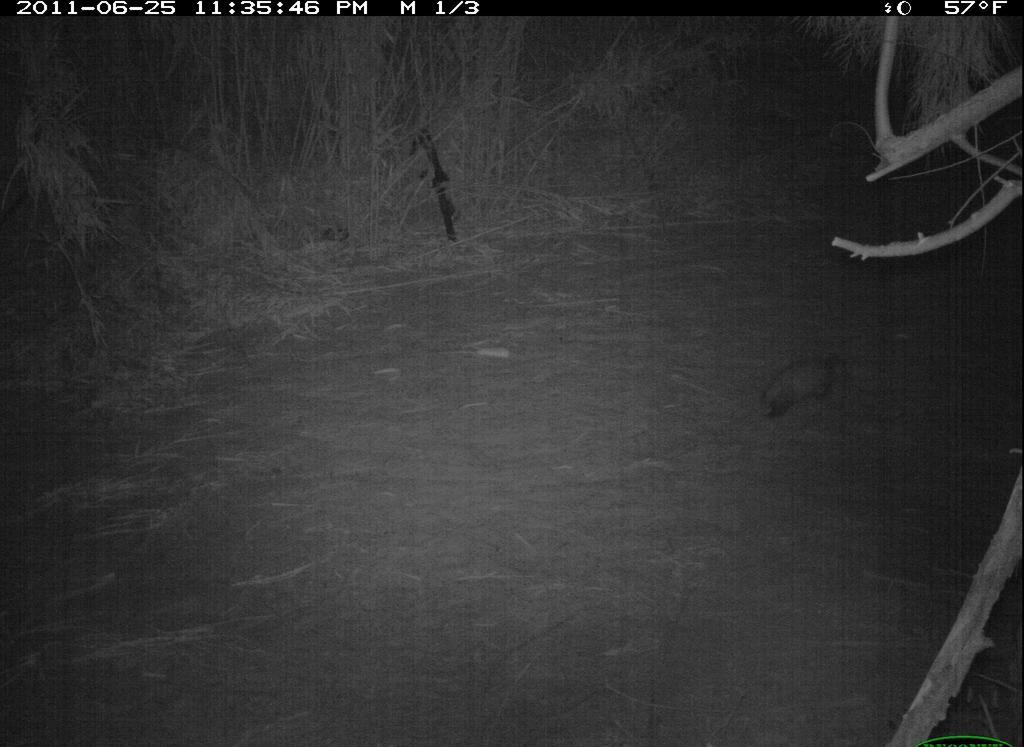opossum: (737, 349, 866, 429)
